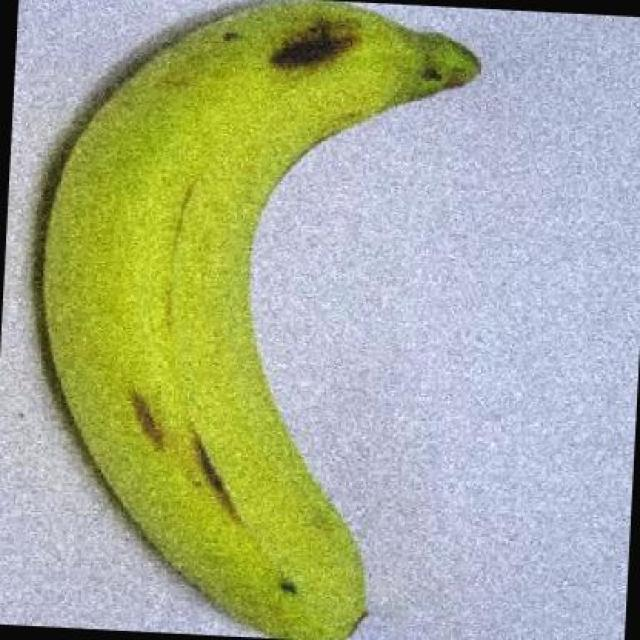ripe: (24, 0, 502, 640)
